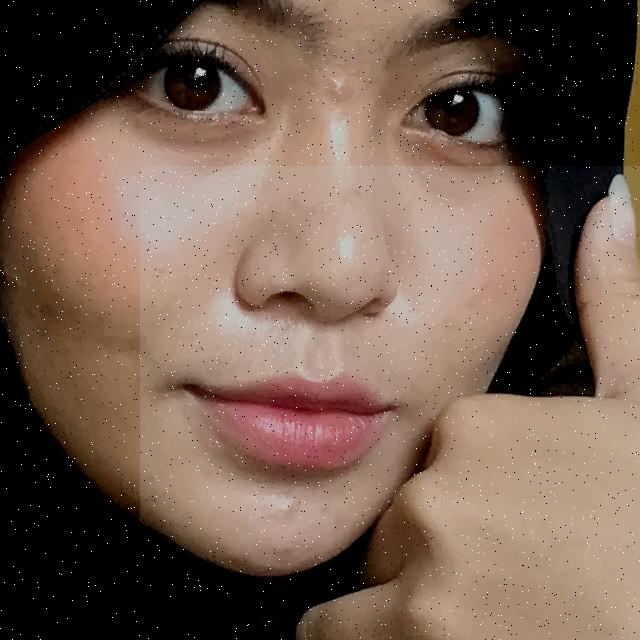telpon: (140, 166, 640, 640)
